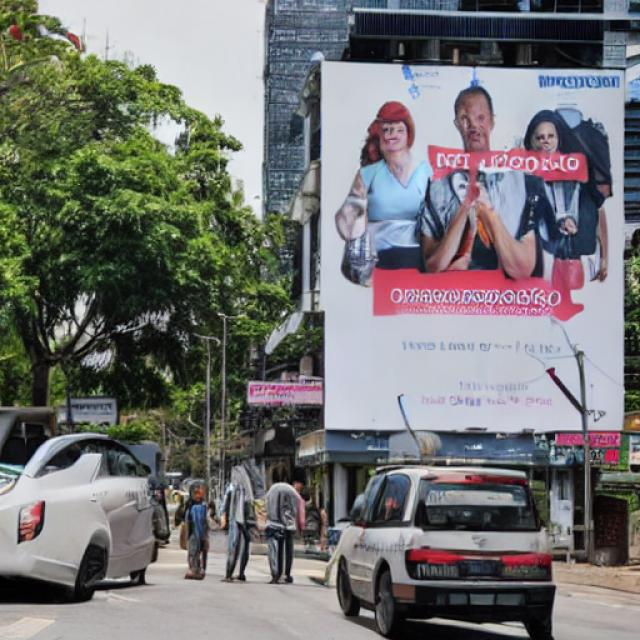Billboard: (318, 60, 628, 441)
